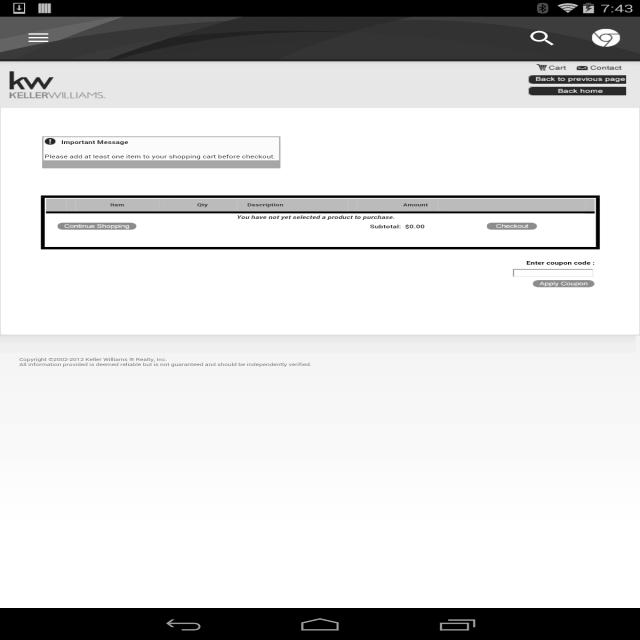Button: (57, 222, 137, 230), (532, 280, 595, 287), (487, 222, 538, 230)
EditText: (512, 268, 594, 276)
ImageButton: (9, 17, 68, 59)
ImageView: (504, 22, 580, 54)
TextView: (580, 22, 632, 54)
